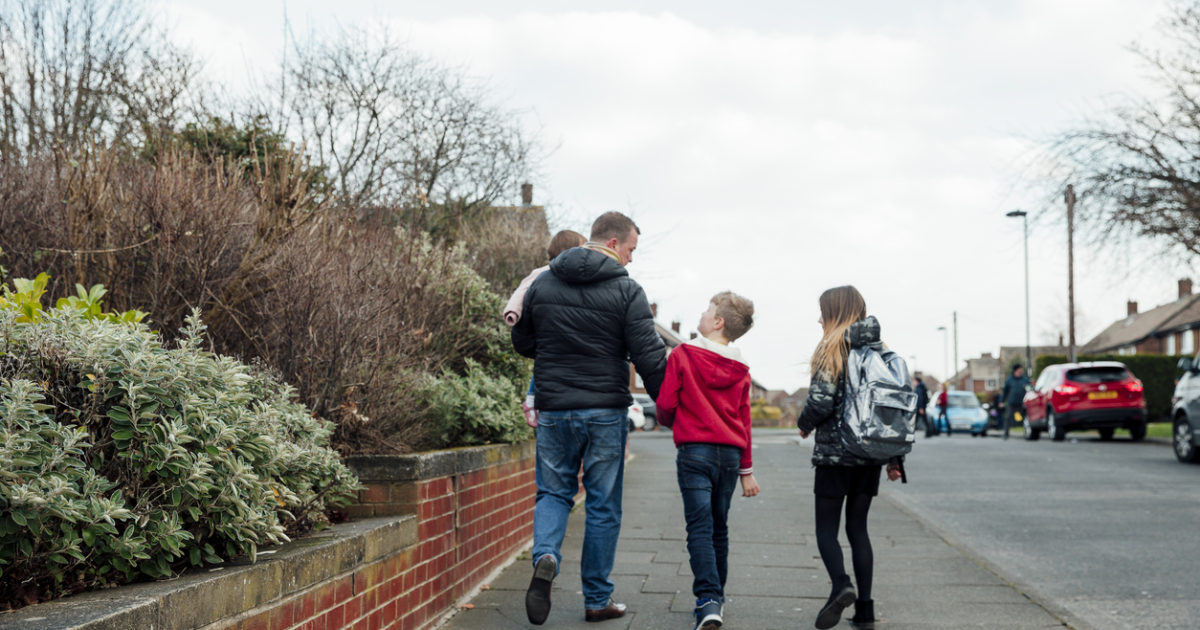car: (1016, 351, 1152, 441)
person: (487, 205, 673, 630), (788, 271, 935, 630), (652, 279, 778, 630)
